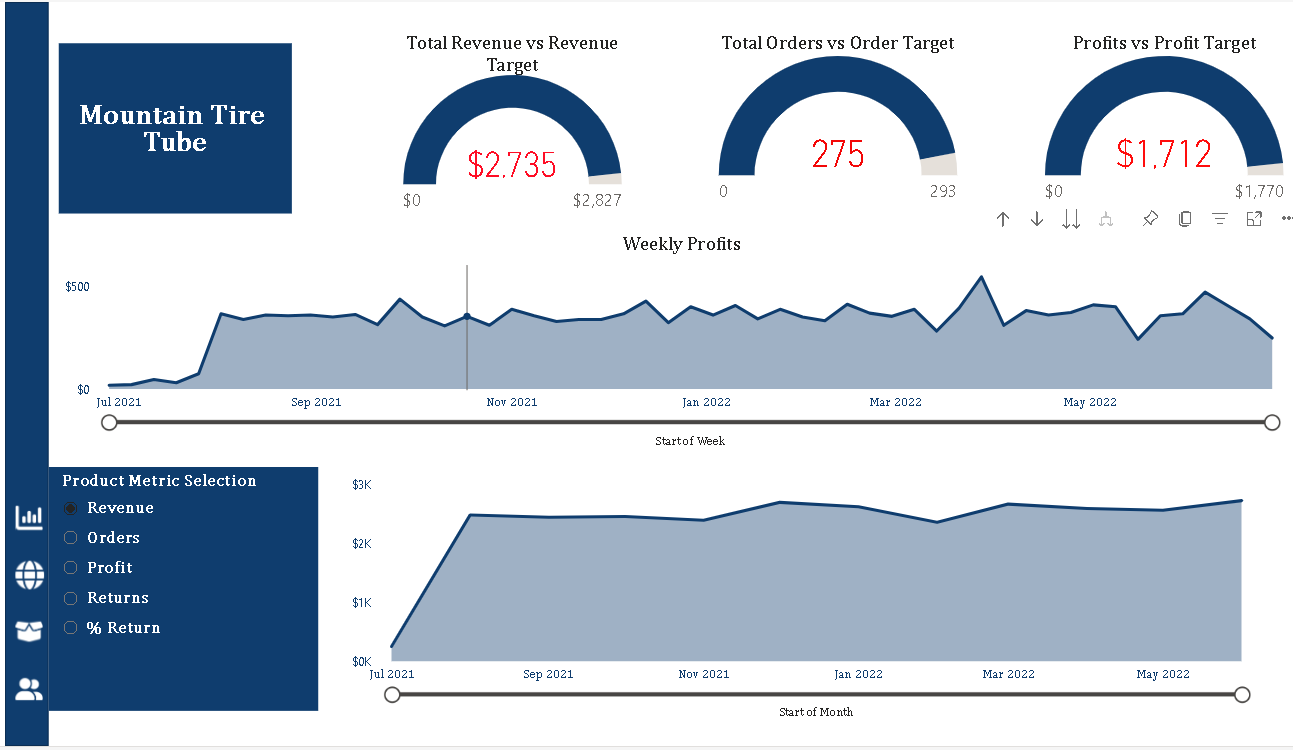

The dashboard page shown, as its layout file describes it:
{"tool":"powerbi","page":{"name":"Product Categories","canvas":[1280,720],"ordinal":2},"visuals":[{"type":"gauge","title":"Total Revenue vs Revenue Target","fields":{"Y":["Measure Table.Total Revenue"],"MaxValue":["Measure Table.Revenue Target"]},"box":[367.4,28.5,247,184.9],"z":0},{"type":"actionButton","box":[6.6,480.6,34.7,37.9],"z":0,"group":"g1"},{"type":"shape","title":"Left Nav bar","box":[0,0,42.1,720],"z":505,"group":"g2"},{"type":"gauge","title":"Profits vs Profit Target","fields":{"Y":["Measure Table.Total Profit"],"MaxValue":["Measure Table.Profit Target"]},"box":[999.2,28.5,245.8,176.3],"z":1000},{"type":"actionButton","box":[6.6,645.9,34.7,37.9],"z":1000,"group":"g1"},{"type":"group","id":"g1","title":"Group 1","box":[6.1,480.6,35.8,203.2],"z":1005,"group":"g2"},{"type":"gauge","title":"Total Orders vs Order Target","fields":{"Y":["Measure Table.Total Orders"],"MaxValue":["Measure Table.Order Target"]},"box":[683.9,28.5,245.8,176.3],"z":2000},{"type":"actionButton","box":[6.6,590.8,34.7,37.9],"z":2000,"group":"g1"},{"type":"areaChart","title":"Weekly Profits","fields":{"Y":["Measure Table.Total Profit"],"Category":["Calendar Lookup.Date Hierarchy.Year","Calendar Lookup.Date Hierarchy.Start of Month","Calendar Lookup.Date Hierarchy.Start of Week","Calendar Lookup.Date Hierarchy.Date"]},"box":[52.1,223.4,1206.5,211],"z":3000},{"type":"actionButton","box":[6.1,535.7,35.8,37.9],"z":3000,"group":"g1"},{"type":"areaChart","title":"Weekly Returns","fields":{"Y":["Measure Table.Total Revenue"],"Category":["Calendar Lookup.Date Hierarchy.Year","Calendar Lookup.Date Hierarchy.Start of Month","Calendar Lookup.Date Hierarchy.Start of Week","Calendar Lookup.Date Hierarchy.Date"]},"box":[330.2,453.1,898.7,244.5],"z":4000},{"type":"card","fields":{"Values":["Min(Product Lookup.ProductName)"]},"box":[52.3,39.5,225.6,165.1],"z":5000},{"type":"group","id":"g2","title":"Group 2","box":[0,0,42.1,720],"z":6000},{"type":"slicer","fields":{"Values":["Product Metric Selection.Product Metric Selection"]},"box":[42.2,450.6,260.7,235.8],"z":7000}]}

Visuals, with their boxes on the page's 1280x720 design canvas (x1, y1, x2, y2). These are canvas units, not pixel positions in the 1293x750 screenshot, which may show the page scaled, cropped or inside an application window:
"Total Revenue vs Revenue Target" gauge: 367:28:614:213
actionButton: 7:481:41:518
"Left Nav bar" shape: 0:0:42:720
"Profits vs Profit Target" gauge: 999:28:1245:205
actionButton: 7:646:41:684
"Group 1" group: 6:481:42:684
"Total Orders vs Order Target" gauge: 684:28:930:205
actionButton: 7:591:41:629
"Weekly Profits" areaChart: 52:223:1259:434
actionButton: 6:536:42:574
"Weekly Returns" areaChart: 330:453:1229:698
card - Min(Product Lookup.ProductName): 52:40:278:205
"Group 2" group: 0:0:42:720
slicer - Product Metric Selection.Product Metric Selection: 42:451:303:686
